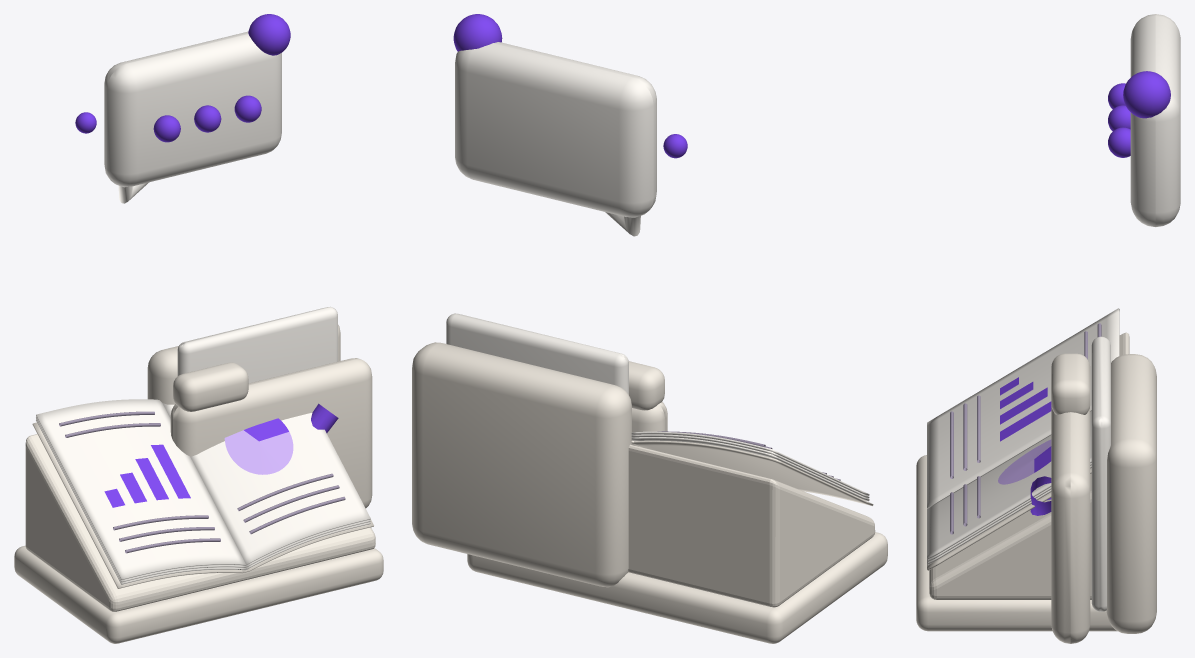
The model's file is devine-accessories-reference.glb.
The picture shows the model from 3 angles, left to right: view 1: azimuth 30°, elevation 25°; view 2: azimuth 150°, elevation 25°; view 3: azimuth 270°, elevation 25°; orthographic projection. The views are drawn at different scales.
Parts seen in each view (by area): view 1: Speech bubble, Paper leaf.002, Paper leaf.005, Sloped book support, Book stand base, Folder front, Folder document, Folder tab, Folder back, Ivory book cover, Notification badge, Purple report bar.003 (+6 smaller); view 2: Folder back, Speech bubble, Sloped book support, Book stand base, Folder document, Ivory book cover, Folder tab, Notification badge, Paper leaf, Folder front, Paper leaf.002, Paper leaf.001; view 3: Folder back, Paper leaf.002, Folder front, Speech bubble, Sloped book support, Book stand base, Paper leaf.005, Folder document, Folder tab, Notification badge, Ivory book cover.001, Message dot.002 (+6 smaller).
Part boxes in pixels (x1=…): Speech bubble: x1=104, y1=31, x2=281, y2=187; Paper leaf.002: x1=36, y1=399, x2=245, y2=580; Paper leaf.005: x1=162, y1=403, x2=370, y2=565; Sloped book support: x1=25, y1=434, x2=375, y2=611; Book stand base: x1=14, y1=545, x2=383, y2=643; Folder front: x1=170, y1=358, x2=372, y2=508; Folder document: x1=177, y1=306, x2=337, y2=383; Folder tab: x1=173, y1=362, x2=248, y2=411; Folder back: x1=147, y1=324, x2=340, y2=404; Ivory book cover: x1=32, y1=422, x2=249, y2=588; Notification badge: x1=248, y1=14, x2=290, y2=55; Purple report bar.003: x1=151, y1=444, x2=190, y2=498; Folder back: x1=412, y1=342, x2=631, y2=587; Speech bubble: x1=455, y1=42, x2=656, y2=217; Sloped book support: x1=628, y1=444, x2=875, y2=607; Book stand base: x1=467, y1=532, x2=887, y2=643; Folder document: x1=446, y1=313, x2=628, y2=394; Ivory book cover: x1=632, y1=440, x2=873, y2=505; Folder tab: x1=628, y1=361, x2=664, y2=410; Notification badge: x1=453, y1=14, x2=502, y2=51; Paper leaf: x1=631, y1=437, x2=869, y2=501; Folder front: x1=632, y1=401, x2=667, y2=445; Paper leaf.002: x1=631, y1=431, x2=869, y2=495; Paper leaf.001: x1=631, y1=434, x2=869, y2=498; Folder back: x1=1106, y1=354, x2=1156, y2=633; Paper leaf.002: x1=927, y1=308, x2=1119, y2=508; Folder front: x1=1051, y1=406, x2=1090, y2=643; Speech bubble: x1=1130, y1=14, x2=1180, y2=227; Sloped book support: x1=929, y1=332, x2=1129, y2=599; Book stand base: x1=916, y1=455, x2=1117, y2=631; Paper leaf.005: x1=927, y1=410, x2=1091, y2=559; Folder document: x1=1091, y1=336, x2=1110, y2=611; Folder tab: x1=1051, y1=353, x2=1090, y2=414; Notification badge: x1=1123, y1=71, x2=1170, y2=118; Ivory book cover.001: x1=927, y1=468, x2=1091, y2=570; Message dot.002: x1=1108, y1=127, x2=1130, y2=157.
Size of the model in its own units: 1.95 by 2.81 by 1.21.
